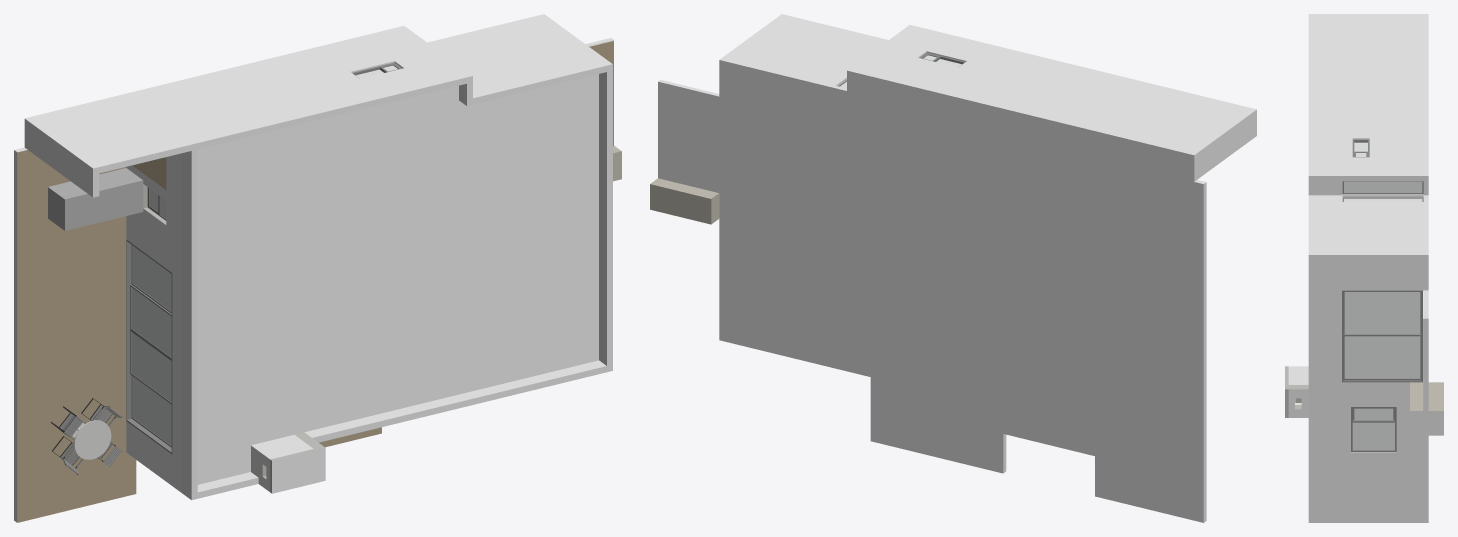
The picture shows the model from 3 angles, left to right: view 1: azimuth 30°, elevation 25°; view 2: azimuth 150°, elevation 25°; view 3: azimuth 270°, elevation 25°; orthographic projection. The views are drawn at different scales.
Parts seen in each view (by area): view 1: Floor Floors <5812236 AQ_Losa solida (0.15m)>, Floor Floors <5516795 AQ_Loseta tipo deck>, Wall Walls <5697055 AQ_Muro Exterior - Block 15x20x40cm (apl, FamilySymbol Windows <5817069 V** (5.18 x 2.400)>, Wall Walls <5627634 AQ_Muro Estructural - Concreto 30cm>, Wall Walls <5821022 AQ_Muro Exterior - Block 15x20x40cm (apl, Wall Walls <5628218 AQ_Muro Exterior - Block 15x20x40cm (apl, Wall Walls <5819376 AQ_Muro Exterior - Block 15x20x40cm (apl, Wall Walls <5812248 AQ_Muro Exterior - Block 15x20x40cm (apl, Wall Walls <5812247 AQ_Muro Exterior - Block 15x20x40cm (apl, Wall Walls <5812244 AQ_Muro Exterior - Block 15x20x40cm (apl, FamilySymbol Furniture <5664609 Mesa exterior> (+10 smaller); view 2: Floor Floors <5482627 AQ_Losa solida (0.15m)>, Wall Walls <5697055 AQ_Muro Exterior - Block 15x20x40cm (apl, Wall Walls <5628218 AQ_Muro Exterior - Block 15x20x40cm (apl, Wall Walls <5821022 AQ_Muro Exterior - Block 15x20x40cm (apl, Wall Walls <5664133 AQ_Muro de piedra - 80cm>, Wall Walls <5664402 AQ_Muro Exterior - Block 15x20x40cm (apl, Wall Walls <5812244 AQ_Muro Exterior - Block 15x20x40cm (apl, Wall Walls <5820693 AQ_Recubrimiento Exterior - Aplanado ext, Wall Walls <5826940 AQ_Recubrimiento Exterior - Aplanado ext, Wall Walls <5813621 AQ_Recubrimiento Exterior - Aplanado ext, Wall Walls <5812246 AQ_Muro Exterior - Block 15x20x40cm (apl; view 3: Wall Walls <5480254 AQ_Muro Exterior - Block 15x20x40cm (apl, Wall Walls <5697055 AQ_Muro Exterior - Block 15x20x40cm (apl, FamilySymbol Windows <5634453 V** (3.00 x 2.400)>, Wall Walls <5628218 AQ_Muro Exterior - Block 15x20x40cm (apl, Wall Walls <5821022 AQ_Muro Exterior - Block 15x20x40cm (apl, Wall Walls <5812247 AQ_Muro Exterior - Block 15x20x40cm (apl, FamilySymbol Windows <5634272 V** (1.500 x 1.350)>, Wall Walls <5812244 AQ_Muro Exterior - Block 15x20x40cm (apl, Wall Walls <5664133 AQ_Muro de piedra - 80cm>, Wall Walls <5813437 AQ_Recubrimiento Exterior - Aplanado ext, Wall Walls <5482916 AQ_Muro Exterior - Block 15x20x40cm (apl, FamilySymbol Windows <5698795 V** (0.460 x 2.400)> (+16 smaller).
Part boxes in pixels (x1=…): Floor Floors <5812236 AQ_Losa solida (0.15m)>: x1=197, y1=74, x2=598, y2=484; Floor Floors <5516795 AQ_Loseta tipo deck>: x1=17, y1=40, x2=613, y2=522; Wall Walls <5697055 AQ_Muro Exterior - Block 15x20x40cm (apl: x1=136, y1=29, x2=455, y2=134; FamilySymbol Windows <5817069 V** (5.18 x 2.400)>: x1=126, y1=239, x2=172, y2=454; Wall Walls <5627634 AQ_Muro Estructural - Concreto 30cm>: x1=126, y1=94, x2=190, y2=491; Wall Walls <5821022 AQ_Muro Exterior - Block 15x20x40cm (apl: x1=34, y1=96, x2=191, y2=173; Wall Walls <5628218 AQ_Muro Exterior - Block 15x20x40cm (apl: x1=430, y1=17, x2=595, y2=87; Wall Walls <5819376 AQ_Muro Exterior - Block 15x20x40cm (apl: x1=184, y1=149, x2=197, y2=493; Wall Walls <5812248 AQ_Muro Exterior - Block 15x20x40cm (apl: x1=305, y1=360, x2=606, y2=442; Wall Walls <5812247 AQ_Muro Exterior - Block 15x20x40cm (apl: x1=599, y1=70, x2=612, y2=372; Wall Walls <5812244 AQ_Muro Exterior - Block 15x20x40cm (apl: x1=184, y1=70, x2=472, y2=150; FamilySymbol Furniture <5664609 Mesa exterior>: x1=48, y1=168, x2=143, y2=230; Floor Floors <5482627 AQ_Losa solida (0.15m)>: x1=658, y1=60, x2=1203, y2=522; Wall Walls <5697055 AQ_Muro Exterior - Block 15x20x40cm (apl: x1=856, y1=33, x2=1147, y2=128; Wall Walls <5628218 AQ_Muro Exterior - Block 15x20x40cm (apl: x1=728, y1=22, x2=878, y2=86; Wall Walls <5821022 AQ_Muro Exterior - Block 15x20x40cm (apl: x1=1107, y1=87, x2=1250, y2=151; Wall Walls <5664133 AQ_Muro de piedra - 80cm>: x1=650, y1=178, x2=719, y2=224; Wall Walls <5664402 AQ_Muro Exterior - Block 15x20x40cm (apl: x1=1192, y1=108, x2=1256, y2=179; Wall Walls <5812244 AQ_Muro Exterior - Block 15x20x40cm (apl: x1=903, y1=25, x2=1166, y2=92; Wall Walls <5820693 AQ_Recubrimiento Exterior - Aplanado ext: x1=1203, y1=182, x2=1206, y2=522; Wall Walls <5826940 AQ_Recubrimiento Exterior - Aplanado ext: x1=848, y1=69, x2=1195, y2=155; Wall Walls <5813621 AQ_Recubrimiento Exterior - Aplanado ext: x1=901, y1=30, x2=1159, y2=94; Wall Walls <5812246 AQ_Muro Exterior - Block 15x20x40cm (apl: x1=775, y1=14, x2=888, y2=45; Wall Walls <5480254 AQ_Muro Exterior - Block 15x20x40cm (apl: x1=1327, y1=252, x2=1423, y2=522; Wall Walls <5697055 AQ_Muro Exterior - Block 15x20x40cm (apl: x1=1327, y1=60, x2=1423, y2=173; FamilySymbol Windows <5634453 V** (3.00 x 2.400)>: x1=1342, y1=290, x2=1422, y2=382; Wall Walls <5628218 AQ_Muro Exterior - Block 15x20x40cm (apl: x1=1327, y1=195, x2=1423, y2=252; Wall Walls <5821022 AQ_Muro Exterior - Block 15x20x40cm (apl: x1=1308, y1=16, x2=1423, y2=55; Wall Walls <5812247 AQ_Muro Exterior - Block 15x20x40cm (apl: x1=1308, y1=260, x2=1322, y2=522; FamilySymbol Windows <5634272 V** (1.500 x 1.350)>: x1=1351, y1=407, x2=1396, y2=452; Wall Walls <5812244 AQ_Muro Exterior - Block 15x20x40cm (apl: x1=1308, y1=56, x2=1322, y2=181; Wall Walls <5664133 AQ_Muro de piedra - 80cm>: x1=1410, y1=382, x2=1443, y2=435; Wall Walls <5813437 AQ_Recubrimiento Exterior - Aplanado ext: x1=1322, y1=255, x2=1327, y2=522; Wall Walls <5482916 AQ_Muro Exterior - Block 15x20x40cm (apl: x1=1327, y1=173, x2=1423, y2=197; FamilySymbol Windows <5698795 V** (0.460 x 2.400)>: x1=1342, y1=181, x2=1423, y2=194.
Size of the model in its own units: 17830 by 11405 by 4700.
